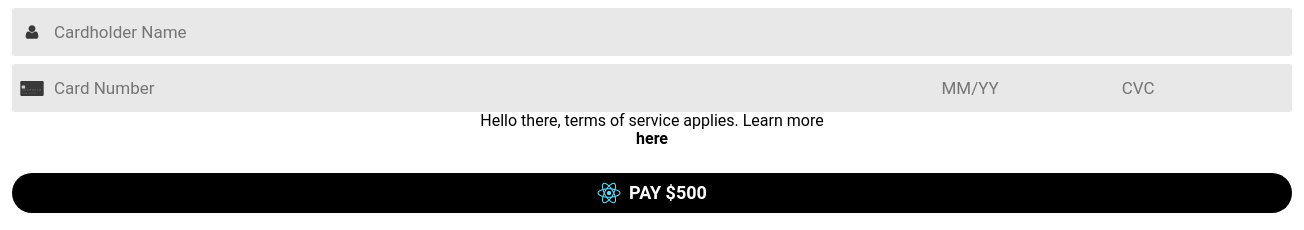
<CheckoutContainer /> › renders greater than 2 digits of the card expiry characters correctly
Type "032" into the field named "card-expiry". click: (1032, 88)
box: x1=932 y1=66 x2=1132 y2=110
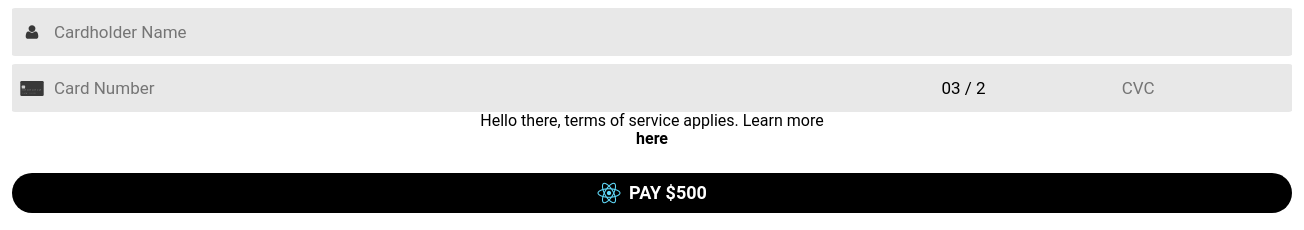
Now the field named "card-expiry" holds "03 / 2", box x1=932 y1=66 x2=1132 y2=110
